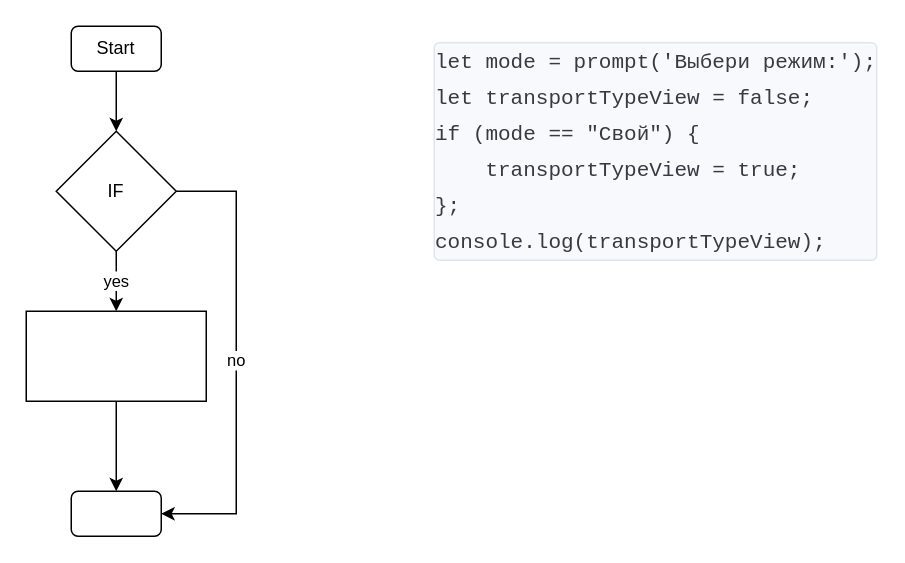
The diagram is 905 pixels wide and 563 high, and some of its shapes have lost their labels. The centre of each missing label's shape, as x and y in pixels:
"DO IT" goes at point (115, 355).
"END" goes at point (115, 513).
